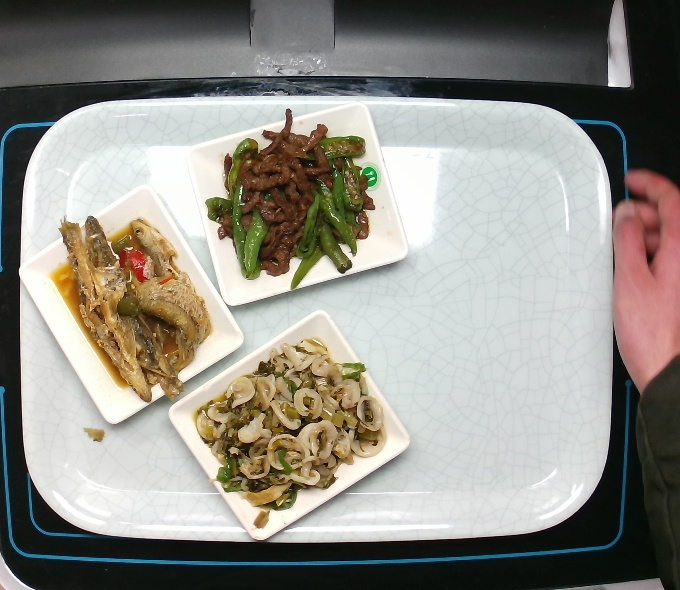wcq-QingJiaoNiuRou: (204, 104, 383, 290)
wcq-XiaoXiYu: (56, 215, 216, 407)
wcq-XueCaiYouYu: (195, 336, 389, 515)
